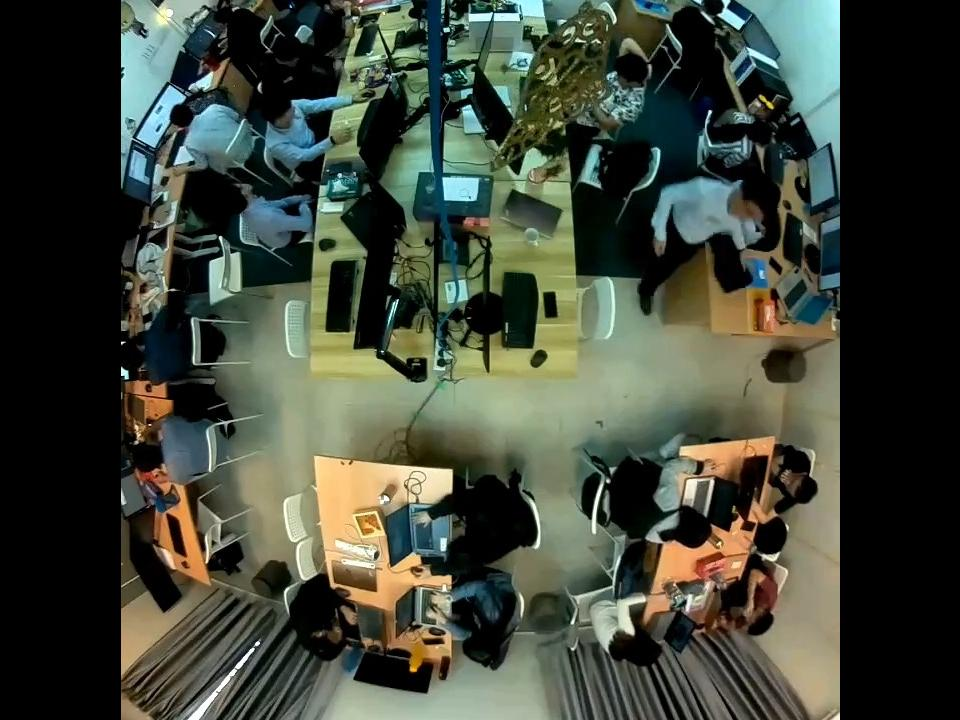name-tag: (704, 213, 722, 227)
